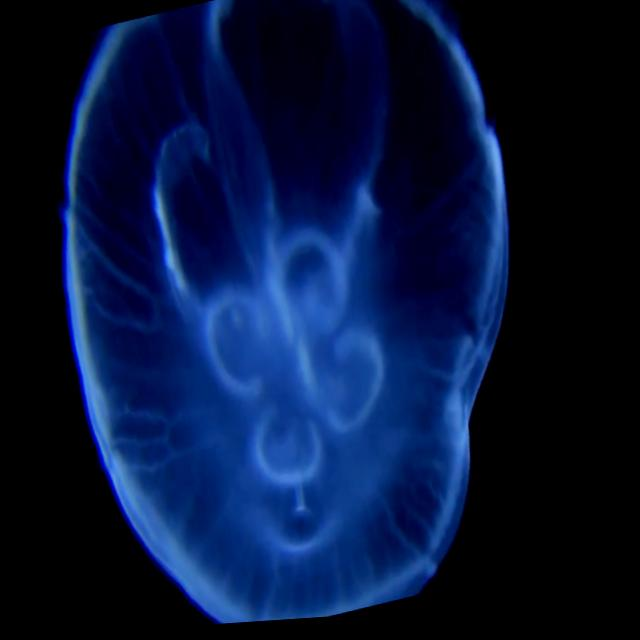Moon-jellyfish: (66, 0, 512, 627)
